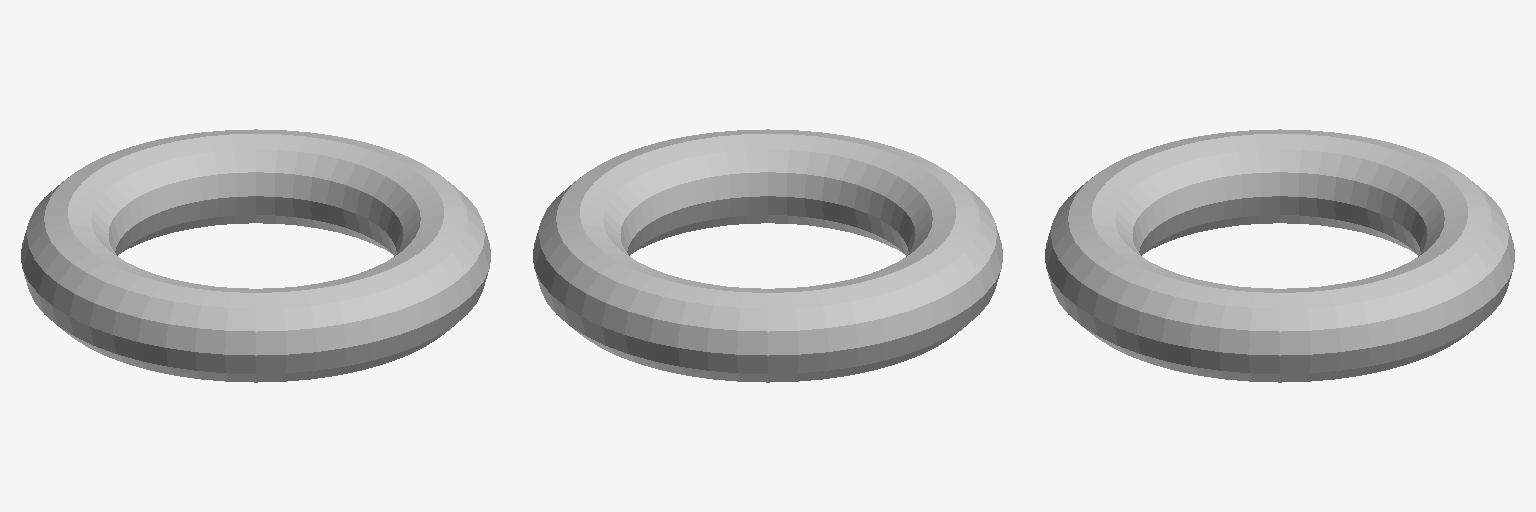
Rendered from Thor.obj.
3 renders of one model, left to right at view 1: azimuth 30°, elevation 25°; view 2: azimuth 150°, elevation 25°; view 3: azimuth 270°, elevation 25°, orthographic.
Visible parts, largest first — view 1: Тор; view 2: Тор; view 3: Тор.
Part boxes in pixels (left/top/right/bottom): Тор: left=21, top=129, right=490, bottom=382; Тор: left=533, top=129, right=1002, bottom=382; Тор: left=1045, top=129, right=1514, bottom=382.
Size of the model in its own units: 1.25 by 0.25 by 1.25.